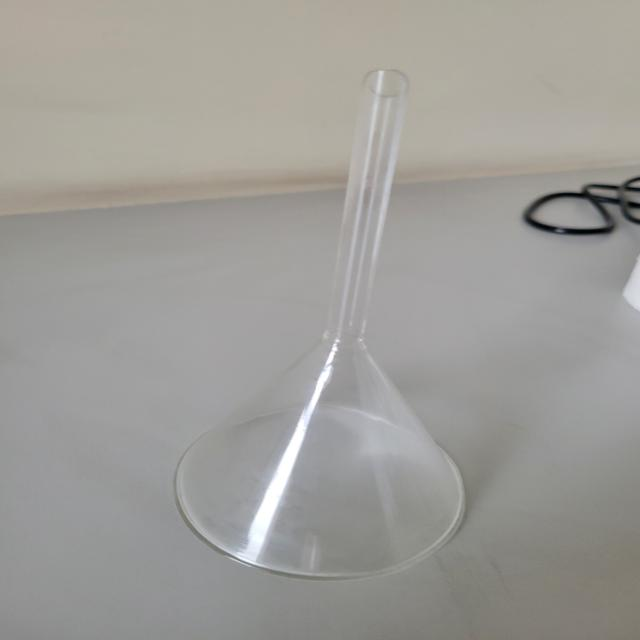Funnel: (134, 38, 524, 618)
